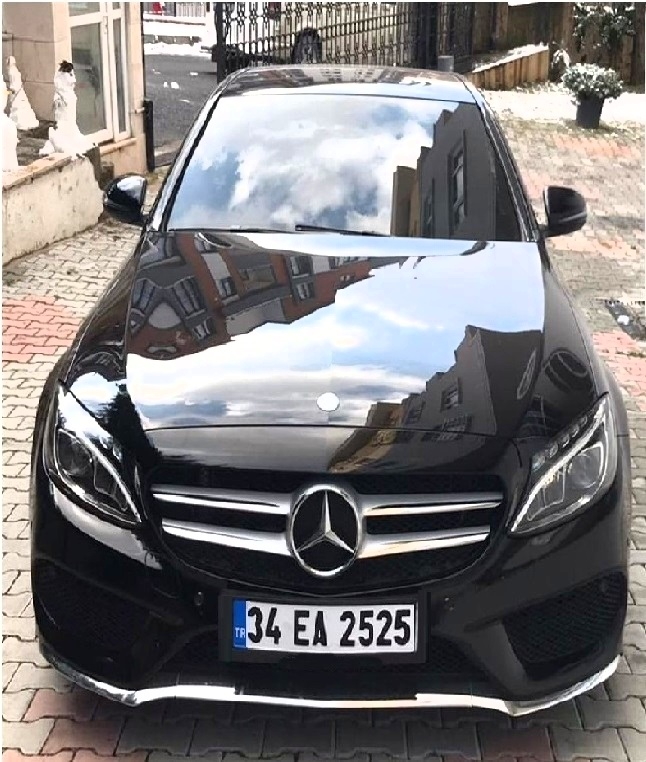plaka: (239, 592, 417, 657)
